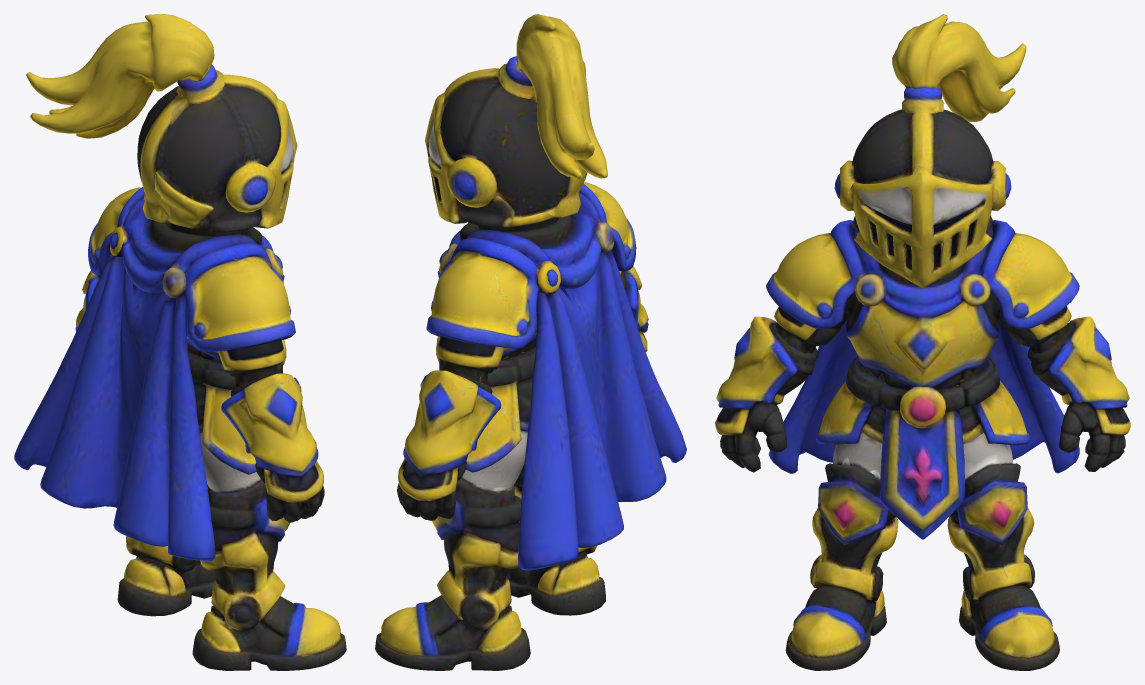
The model's file is knight_seg.preview-v2.glb.
3 renders of one model, left to right at view 1: azimuth 30°, elevation 25°; view 2: azimuth 150°, elevation 25°; view 3: azimuth 270°, elevation 25°, orthographic. The views are drawn at different scales.
Visible parts, largest first — view 1: tripo_part_0, tripo_part_6, tripo_part_3, tripo_part_8, tripo_part_11, tripo_part_5, tripo_part_1, tripo_part_2, tripo_part_9, tripo_part_4, tripo_part_10, tripo_part_12; view 2: tripo_part_0, tripo_part_2, tripo_part_6, tripo_part_10, tripo_part_7, tripo_part_8, tripo_part_1, tripo_part_3, tripo_part_4, tripo_part_9, tripo_part_11, tripo_part_12 (+2 smaller); view 3: tripo_part_4, tripo_part_1, tripo_part_3, tripo_part_2, tripo_part_9, tripo_part_6, tripo_part_0, tripo_part_7, tripo_part_5, tripo_part_8, tripo_part_10, tripo_part_11 (+1 smaller).
Part boxes in pixels (x1,y1,x2,y2): tripo_part_0: [14, 253, 215, 561]; tripo_part_6: [137, 64, 281, 236]; tripo_part_3: [192, 480, 346, 670]; tripo_part_8: [26, 14, 214, 138]; tripo_part_11: [184, 242, 295, 371]; tripo_part_5: [221, 373, 324, 522]; tripo_part_1: [121, 198, 284, 387]; tripo_part_2: [117, 484, 216, 616]; tripo_part_9: [144, 95, 297, 232]; tripo_part_4: [188, 340, 286, 474]; tripo_part_10: [88, 187, 144, 275]; tripo_part_12: [200, 433, 261, 493]; tripo_part_0: [518, 222, 686, 570]; tripo_part_2: [375, 478, 530, 670]; tripo_part_6: [438, 56, 586, 231]; tripo_part_10: [426, 238, 538, 368]; tripo_part_7: [397, 370, 501, 520]; tripo_part_8: [516, 14, 607, 179]; tripo_part_1: [437, 193, 605, 384]; tripo_part_3: [506, 465, 605, 615]; tripo_part_4: [436, 336, 535, 472]; tripo_part_9: [425, 89, 587, 227]; tripo_part_11: [579, 182, 636, 275]; tripo_part_12: [461, 429, 527, 492]; tripo_part_4: [815, 356, 1029, 539]; tripo_part_1: [774, 225, 1070, 390]; tripo_part_3: [785, 456, 898, 670]; tripo_part_2: [947, 463, 1059, 670]; tripo_part_9: [847, 166, 998, 288]; tripo_part_6: [834, 87, 1011, 211]; tripo_part_0: [768, 319, 1079, 473]; tripo_part_7: [1027, 316, 1130, 471]; tripo_part_5: [715, 316, 818, 472]; tripo_part_8: [892, 14, 1026, 121]; tripo_part_10: [977, 220, 1079, 342]; tripo_part_11: [766, 220, 863, 340].
Size of the model in its own units: 0.3784 by 1 by 0.6321.
Materials: 15 (15 with a texture image).
